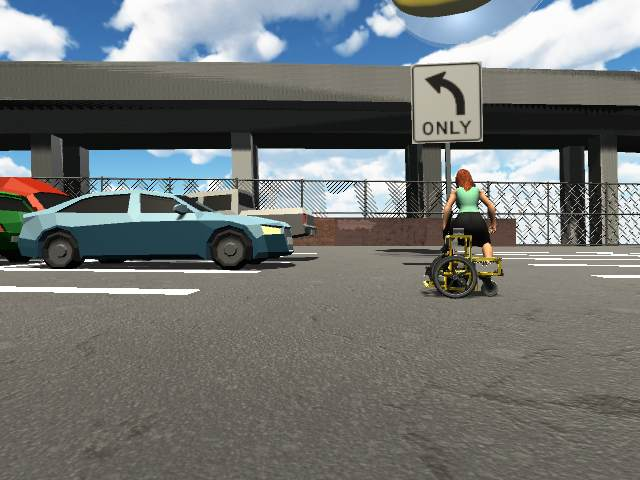arrow_left: (425, 68, 468, 116)
